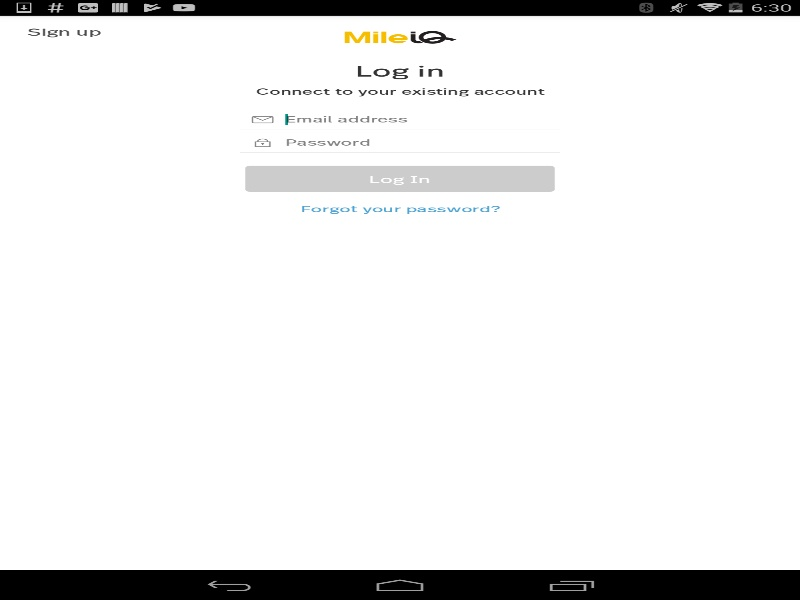Button: (245, 165, 554, 191), (300, 194, 500, 224), (0, 17, 128, 47)
Input: (240, 109, 560, 129), (240, 133, 560, 152)
